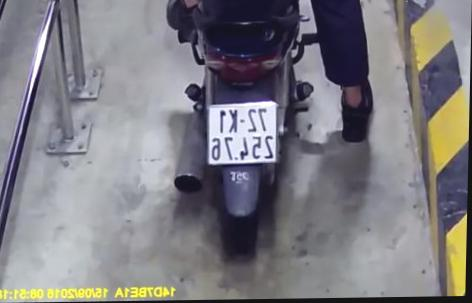License_Plate: (204, 97, 289, 173)
